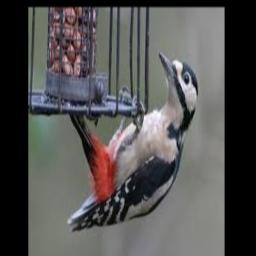Woodpecker: (67, 52, 199, 232)
